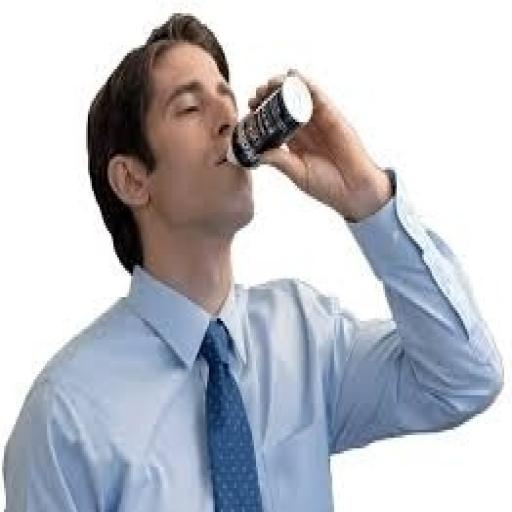drinking: (224, 69, 312, 170)
